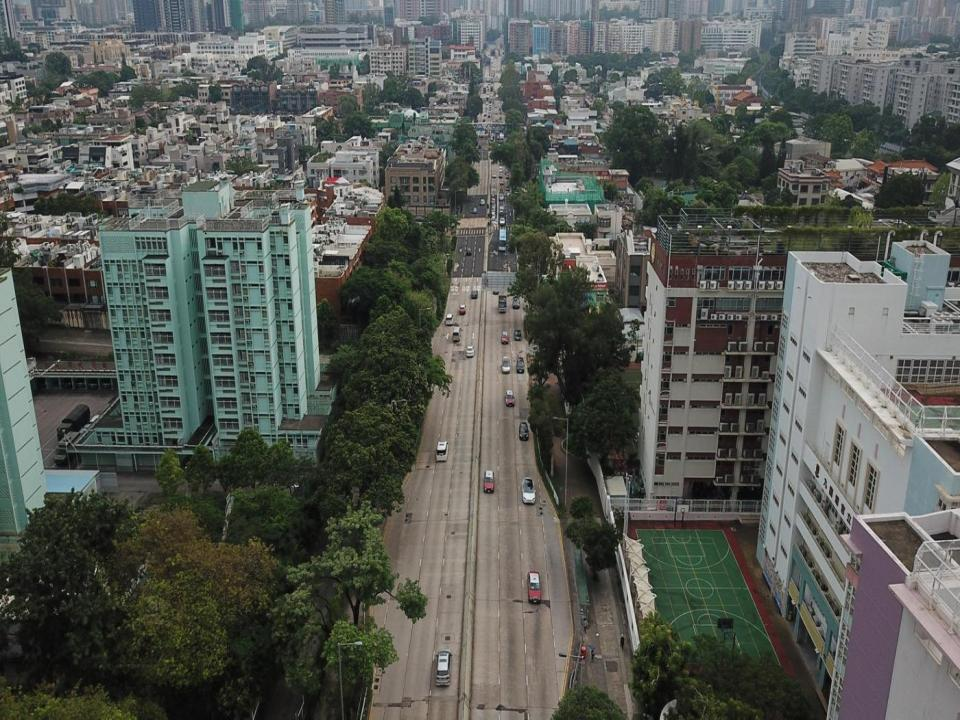bus: (499, 229, 507, 250)
car: (527, 570, 542, 605), (521, 476, 536, 505), (484, 470, 494, 493), (518, 422, 530, 441), (501, 355, 511, 373), (505, 390, 515, 407), (515, 358, 525, 373), (513, 328, 522, 342), (512, 295, 520, 310), (500, 332, 509, 344), (493, 281, 499, 296), (466, 346, 474, 356), (446, 314, 453, 324), (460, 304, 466, 315), (470, 290, 478, 298), (466, 246, 472, 256), (499, 218, 505, 226)
truck: (56, 404, 91, 445), (498, 295, 507, 313)
van: (435, 650, 452, 686), (437, 441, 449, 460), (452, 326, 460, 341)
